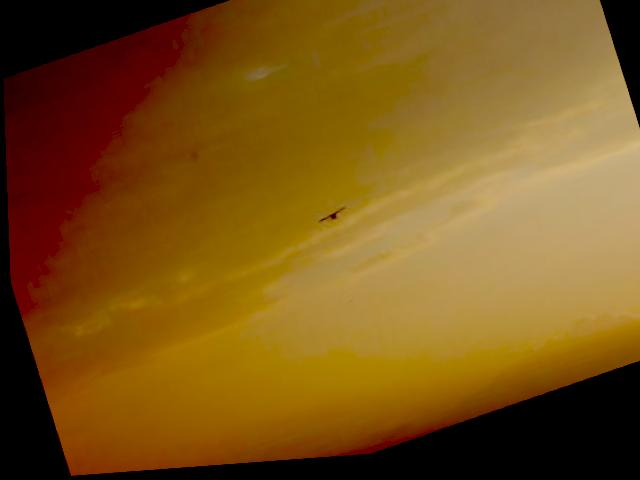uav: (312, 206, 348, 230)
